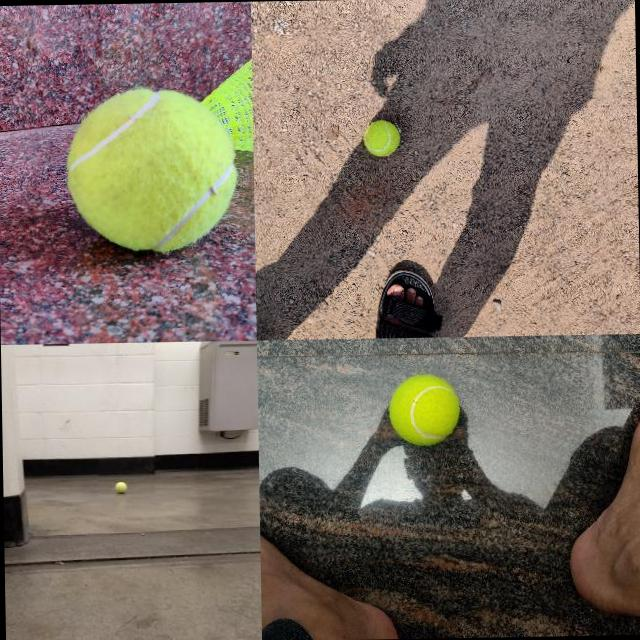Tennis Ball: (64, 88, 237, 254), (388, 372, 459, 446), (362, 120, 400, 156), (114, 482, 126, 492)
